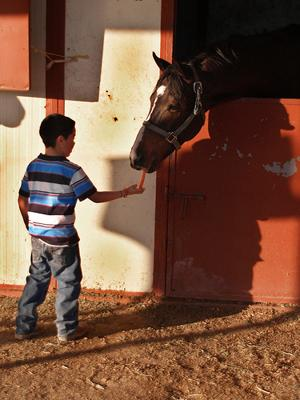person: (13, 114, 143, 344)
